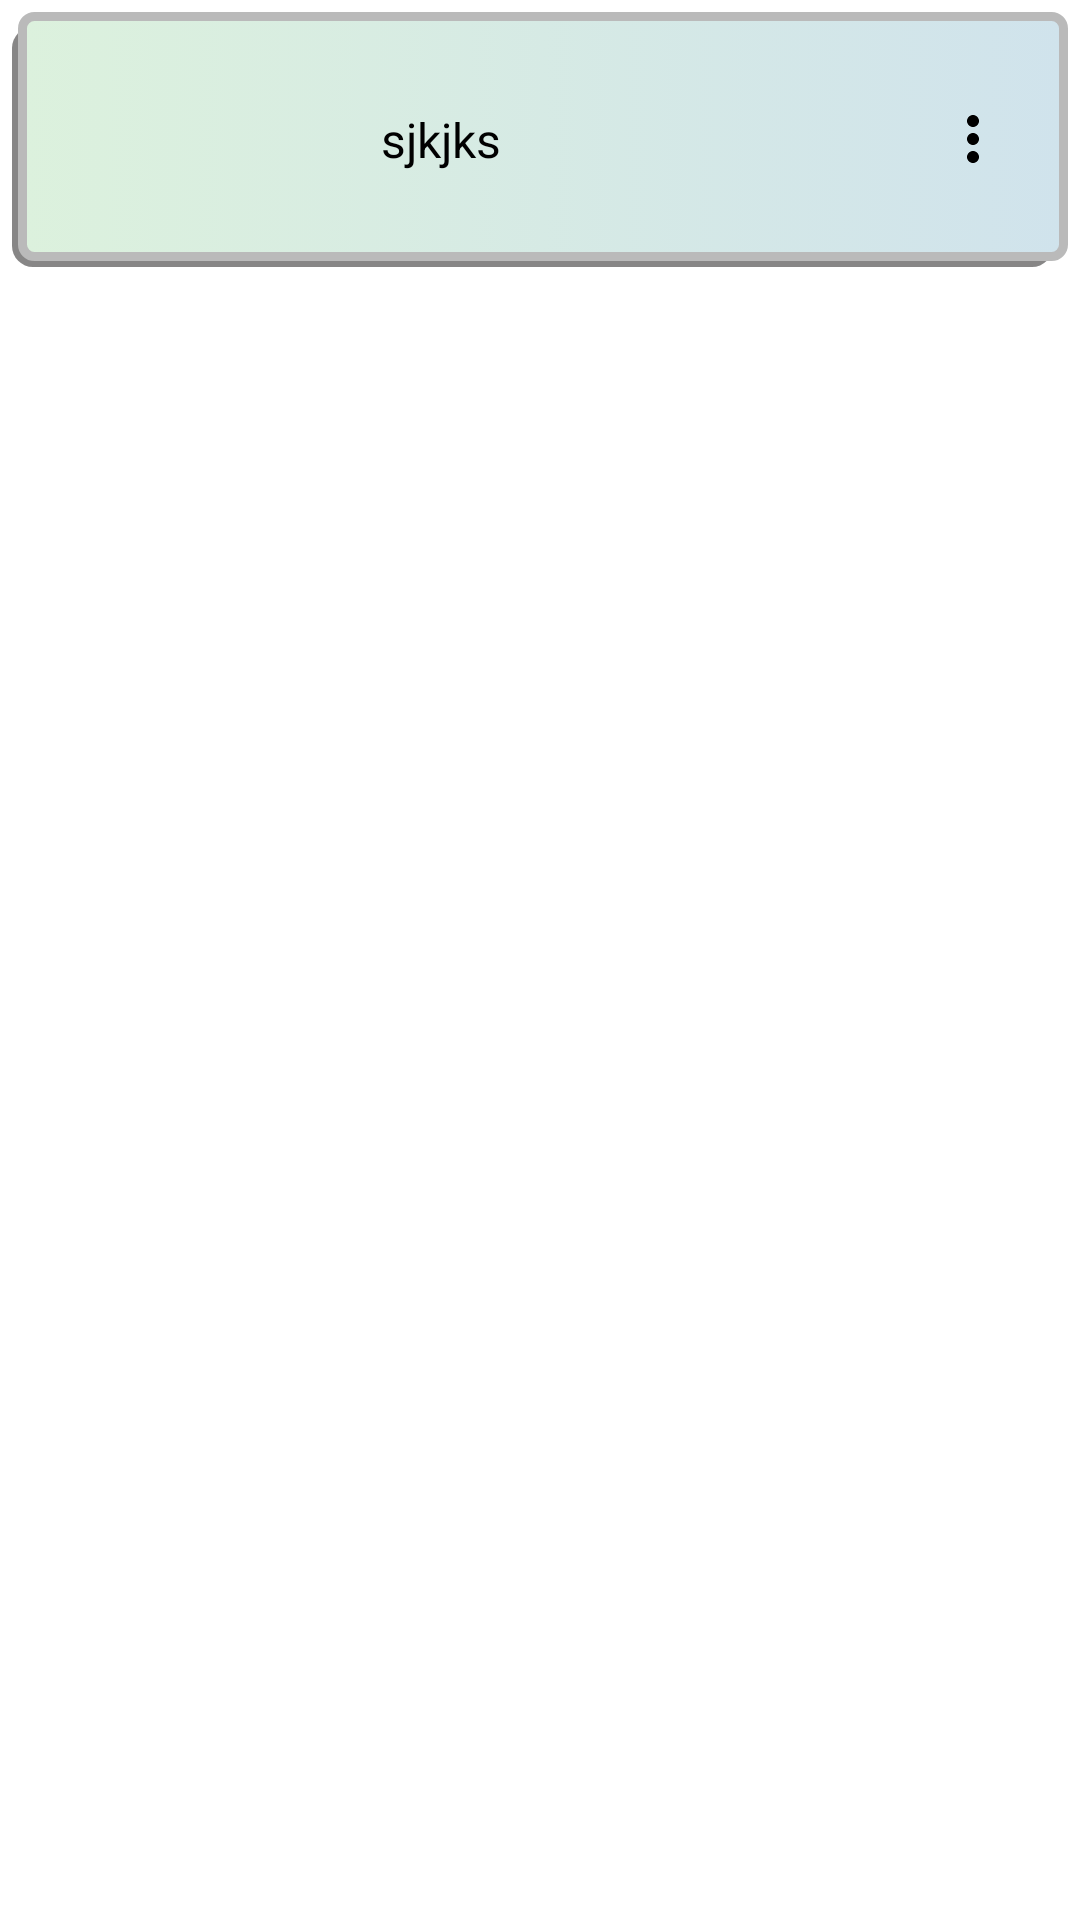

Locate icon controls on the screen. Image size 1080 x 1920, boxes as (x1, y1, x2, y2).
more: (967, 115, 979, 163)
